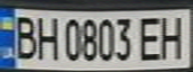0: (97, 15, 118, 62), (60, 15, 81, 62)
3: (115, 15, 139, 62)
8: (78, 16, 100, 63)
B: (9, 12, 39, 61)
E: (136, 14, 166, 62)
H: (157, 11, 190, 61), (33, 12, 60, 61)
